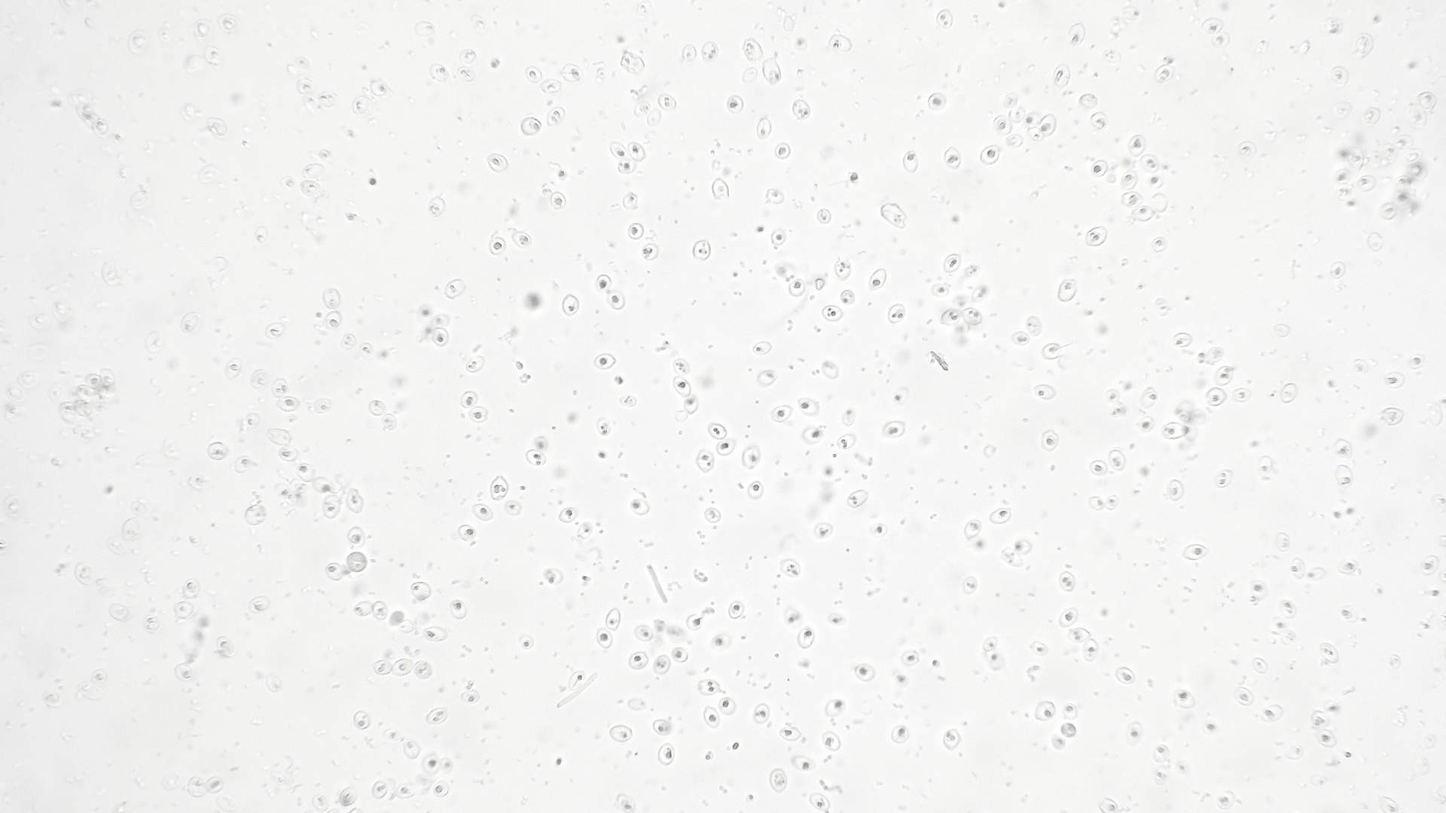yeasy: (877, 200, 911, 233), (761, 52, 789, 87), (2, 493, 31, 525), (203, 114, 233, 144), (936, 724, 968, 752), (404, 577, 436, 605), (214, 11, 246, 39), (619, 49, 647, 80), (1160, 419, 1193, 445), (1195, 342, 1230, 366), (126, 29, 153, 59), (1182, 537, 1214, 562), (445, 595, 471, 625), (342, 523, 368, 553), (221, 355, 247, 385), (240, 501, 271, 526), (695, 675, 728, 698), (188, 17, 215, 45), (155, 20, 181, 49), (1139, 382, 1164, 412), (1170, 684, 1197, 711), (1081, 222, 1109, 248), (987, 504, 1017, 528), (1350, 30, 1374, 60), (693, 446, 716, 477), (1, 380, 32, 403), (1125, 131, 1152, 157), (456, 522, 484, 547), (825, 30, 853, 55), (627, 138, 652, 166), (1368, 143, 1397, 167), (129, 190, 158, 214), (862, 266, 889, 291), (1402, 102, 1427, 129), (202, 44, 227, 71), (740, 36, 764, 64), (698, 38, 722, 66), (777, 556, 803, 581), (319, 286, 344, 312), (1030, 699, 1057, 723), (776, 720, 803, 744), (487, 474, 511, 501), (1055, 276, 1078, 304), (822, 607, 850, 630), (612, 790, 640, 813), (297, 176, 325, 199), (805, 790, 835, 811), (786, 752, 816, 773), (1150, 63, 1180, 84), (607, 723, 637, 744), (1328, 65, 1353, 90), (767, 401, 793, 425), (959, 518, 983, 544), (1033, 379, 1059, 403), (1063, 21, 1087, 47), (470, 500, 496, 524), (558, 292, 582, 318), (607, 139, 633, 163), (322, 557, 346, 583), (819, 727, 842, 754), (215, 635, 238, 662), (346, 485, 366, 516), (852, 662, 880, 684), (1377, 405, 1405, 427), (484, 152, 512, 174), (1126, 206, 1160, 224), (740, 443, 761, 472), (768, 766, 789, 795), (795, 624, 816, 653), (751, 698, 771, 728), (1417, 552, 1441, 577), (709, 178, 733, 203), (443, 276, 468, 300), (72, 560, 92, 590), (1023, 312, 1046, 338), (541, 565, 567, 588), (654, 740, 676, 767), (791, 96, 813, 123), (411, 19, 438, 41), (426, 62, 453, 84), (1258, 702, 1286, 723), (727, 596, 748, 624), (761, 186, 789, 207), (105, 535, 133, 556), (15, 370, 44, 390), (887, 722, 912, 745), (1116, 169, 1141, 192), (510, 228, 535, 251), (518, 116, 543, 139), (689, 238, 711, 264), (1381, 370, 1407, 392), (1416, 89, 1438, 115), (548, 187, 570, 213), (366, 78, 392, 100), (412, 659, 438, 681), (179, 310, 201, 336), (96, 364, 118, 390), (1207, 30, 1237, 49), (880, 419, 907, 440), (1334, 462, 1355, 489), (423, 705, 450, 726), (26, 312, 53, 333), (1124, 720, 1144, 748), (1231, 140, 1259, 160), (230, 453, 258, 473), (143, 330, 163, 358), (38, 690, 66, 710), (885, 301, 908, 325), (592, 415, 615, 439), (985, 647, 1008, 671), (822, 696, 845, 720), (978, 143, 1002, 166), (990, 113, 1014, 136), (1036, 113, 1059, 137), (700, 705, 723, 729), (628, 648, 651, 672), (592, 627, 615, 651), (618, 188, 641, 212), (559, 61, 583, 84), (390, 657, 413, 681), (336, 785, 360, 808), (1023, 639, 1052, 658), (1250, 574, 1269, 603), (275, 394, 304, 413), (1204, 385, 1229, 407), (246, 595, 271, 617), (832, 256, 853, 282), (1081, 636, 1102, 662), (1149, 739, 1170, 765), (1346, 145, 1367, 171), (901, 148, 922, 174), (525, 447, 551, 468), (426, 194, 447, 220), (264, 321, 290, 342), (591, 352, 619, 371), (1052, 61, 1071, 89), (1117, 5, 1145, 24), (1090, 110, 1113, 133), (458, 388, 481, 411), (320, 310, 343, 333), (668, 375, 692, 397), (846, 487, 868, 511), (998, 548, 1022, 570), (1332, 438, 1356, 460), (1361, 107, 1383, 131), (310, 394, 334, 416), (296, 460, 318, 484), (298, 163, 329, 180), (1039, 428, 1060, 453), (936, 306, 961, 327), (770, 142, 795, 163), (523, 59, 544, 84), (262, 427, 291, 445), (1039, 340, 1065, 360), (1330, 166, 1356, 186), (602, 606, 622, 632), (655, 91, 681, 111), (462, 354, 488, 374), (421, 749, 441, 775), (73, 382, 99, 402), (1064, 625, 1091, 644), (1319, 638, 1338, 665), (1170, 329, 1197, 348), (1103, 400, 1130, 419), (961, 305, 984, 327), (1215, 788, 1237, 811), (1304, 562, 1326, 585), (349, 94, 371, 117), (268, 375, 291, 397), (206, 442, 229, 464), (797, 396, 821, 417), (801, 425, 825, 446), (1075, 92, 1103, 110), (563, 666, 584, 690), (320, 495, 341, 519), (401, 737, 422, 761), (172, 662, 196, 683), (197, 163, 221, 184), (713, 438, 738, 458), (1057, 604, 1077, 629), (650, 717, 675, 737), (754, 116, 774, 141), (539, 78, 564, 98), (264, 671, 284, 696), (1279, 379, 1298, 405), (485, 236, 511, 255), (458, 688, 487, 705), (310, 476, 337, 494), (889, 386, 911, 408), (544, 107, 566, 129), (185, 776, 207, 798), (159, 769, 181, 791), (670, 356, 691, 379), (941, 251, 962, 274), (1057, 571, 1078, 594), (782, 606, 803, 629), (1282, 741, 1305, 762), (1213, 469, 1236, 490), (970, 283, 993, 304), (1232, 687, 1256, 707), (1327, 258, 1347, 282), (468, 405, 492, 425), (202, 775, 226, 795), (173, 601, 197, 621), (1335, 558, 1363, 575), (421, 626, 449, 643), (942, 144, 961, 169), (1276, 628, 1301, 647), (108, 603, 133, 622), (820, 304, 846, 322), (1229, 385, 1255, 403), (1199, 16, 1225, 34), (1316, 729, 1337, 751), (1213, 364, 1235, 385), (1378, 201, 1399, 223), (925, 91, 947, 112), (724, 94, 746, 115), (382, 726, 403, 748), (1114, 663, 1134, 686), (897, 647, 920, 667), (1278, 598, 1301, 618), (1390, 131, 1413, 151), (715, 696, 738, 716), (317, 90, 340, 110), (1328, 101, 1355, 118), (821, 357, 840, 381), (352, 708, 371, 732), (1255, 453, 1273, 478), (427, 312, 452, 330), (369, 598, 387, 623), (1289, 555, 1305, 583), (1400, 148, 1426, 165), (58, 400, 75, 426), (755, 367, 776, 388), (785, 276, 806, 297), (1309, 708, 1330, 729), (1135, 416, 1156, 437), (1152, 296, 1173, 317), (1322, 17, 1343, 38), (180, 577, 201, 598), (605, 291, 627, 311), (557, 506, 579, 526), (455, 65, 477, 85), (1011, 538, 1034, 557), (1087, 458, 1110, 477), (1138, 153, 1161, 172), (625, 220, 648, 239), (431, 326, 450, 349), (432, 778, 451, 801), (1108, 446, 1124, 473), (652, 653, 670, 677), (417, 303, 435, 327), (249, 367, 267, 391), (93, 118, 111, 142), (889, 671, 913, 689), (122, 516, 139, 541), (629, 497, 650, 517), (835, 432, 856, 452), (1338, 606, 1359, 626), (531, 433, 551, 454), (769, 226, 788, 248), (1059, 701, 1081, 720), (1166, 480, 1185, 502), (1121, 190, 1143, 209), (309, 793, 331, 812), (83, 369, 102, 391), (1274, 530, 1292, 553), (1265, 614, 1288, 632), (139, 614, 162, 632), (90, 664, 108, 687), (929, 282, 954, 298), (1091, 158, 1111, 178), (1355, 174, 1375, 194), (275, 445, 300, 461), (396, 781, 416, 801), (746, 479, 765, 500), (813, 521, 834, 540), (593, 273, 612, 294), (639, 243, 660, 262), (1252, 656, 1271, 677), (1405, 352, 1426, 371), (1149, 235, 1170, 254), (934, 8, 953, 29), (670, 644, 689, 665), (631, 100, 652, 119), (365, 398, 386, 417), (706, 422, 728, 440), (840, 406, 858, 428), (633, 626, 655, 644), (617, 157, 639, 175), (294, 77, 316, 95), (1096, 795, 1118, 813), (645, 106, 662, 129), (349, 600, 372, 617), (867, 521, 886, 541), (1322, 697, 1341, 717), (518, 632, 537, 652), (369, 780, 389, 799), (752, 340, 773, 358), (961, 573, 979, 594), (1102, 47, 1123, 65), (685, 611, 703, 632), (252, 224, 270, 245), (371, 659, 392, 677), (502, 500, 524, 517), (438, 755, 455, 777), (1103, 494, 1122, 513), (679, 43, 698, 62), (1174, 757, 1194, 775), (577, 520, 595, 540), (701, 506, 722, 523), (1153, 764, 1170, 785), (683, 393, 699, 415), (616, 394, 641, 408), (709, 635, 732, 650), (1087, 492, 1104, 512), (999, 91, 1019, 108), (1025, 126, 1045, 143), (792, 35, 809, 55), (840, 288, 856, 309), (1049, 733, 1065, 754), (1057, 723, 1078, 739), (244, 410, 260, 431), (128, 500, 149, 516), (981, 635, 999, 653), (397, 617, 416, 634), (272, 483, 291, 500), (1010, 331, 1030, 347), (383, 414, 399, 434), (1201, 720, 1222, 735), (1002, 134, 1024, 148), (340, 333, 358, 350), (1008, 105, 1024, 124), (816, 206, 831, 226), (458, 50, 478, 65), (1023, 110, 1039, 128), (359, 341, 374, 360), (1310, 773, 1329, 787), (1389, 651, 1402, 671), (1106, 385, 1121, 401), (293, 55, 310, 69), (1148, 175, 1164, 188)
